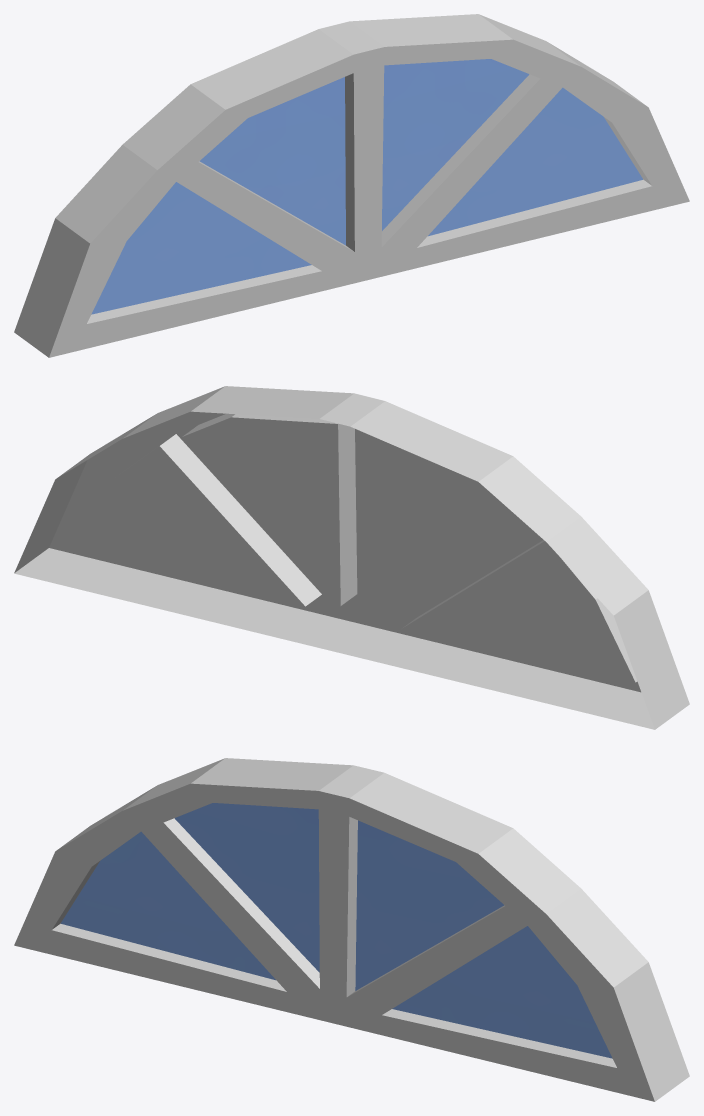
File: window_upper_02.fbx
3 views of the same model, one above another, from view 1: azimuth 30°, elevation 25°; view 2: azimuth 150°, elevation 25°; view 3: azimuth 330°, elevation 25° (orthographic).
Parts seen in each view (by area): view 1: pCylinder1_Ext_1, pCylinder1; view 2: pCylinder1_Ext_1; view 3: pCylinder1_Ext_1, pCylinder1.
Part boxes in pixels (<box>): pCylinder1_Ext_1: <box>14,14,689,357</box>; pCylinder1: <box>91,59,642,314</box>; pCylinder1_Ext_1: <box>14,386,689,729</box>; pCylinder1_Ext_1: <box>14,758,689,1101</box>; pCylinder1: <box>61,803,612,1058</box>.
Size of the model in its own units: 151 by 51.51 by 14.27.
